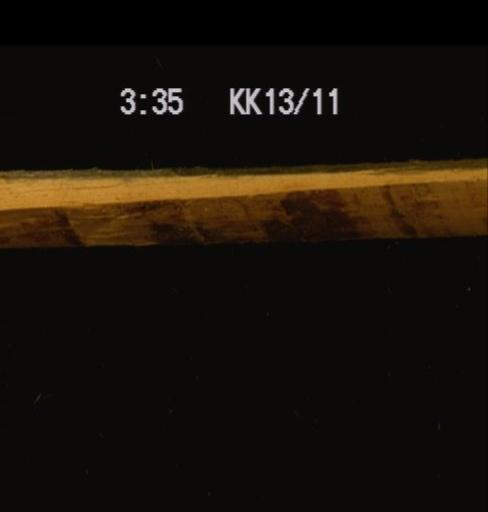wave: (0, 168, 486, 233)
